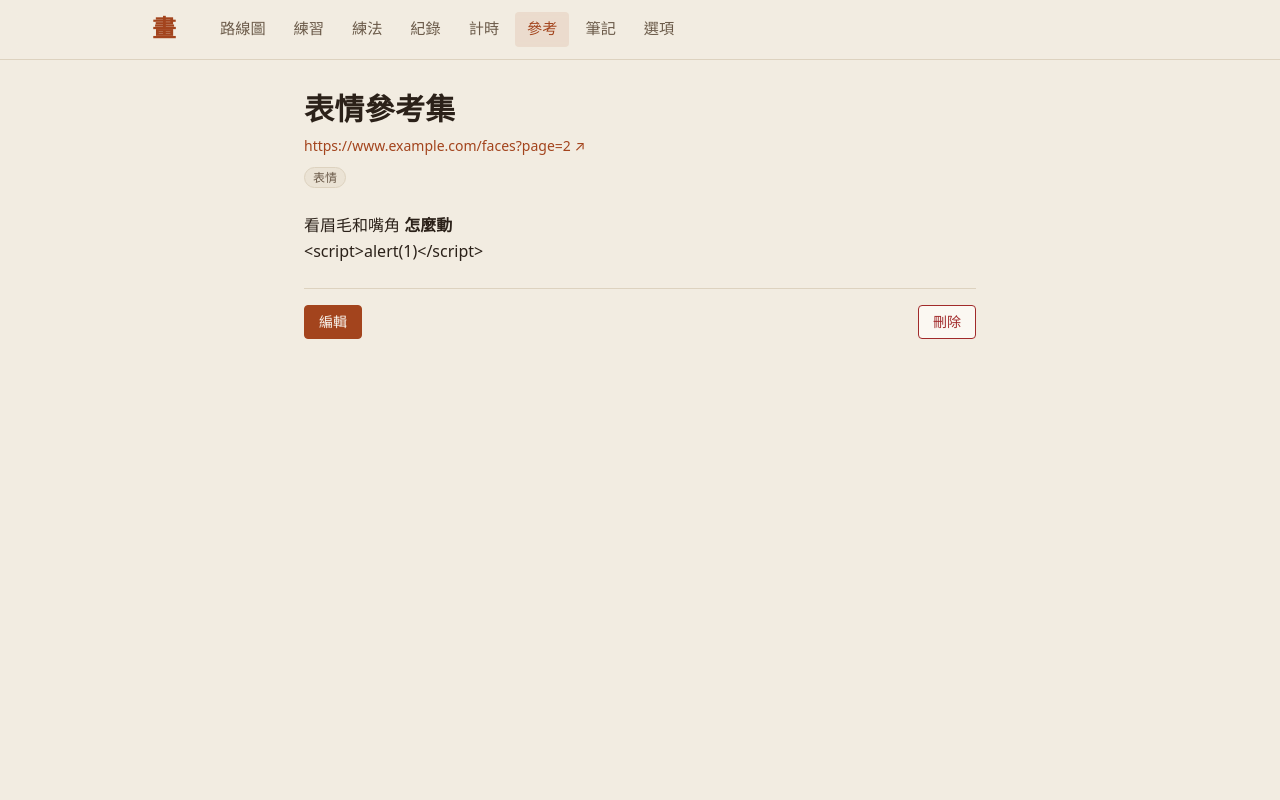
Test: a reference › deletes through the dialog and returns to the library
Step 1. Click the button "刪除" → click(947, 322), box [918, 305, 976, 339]
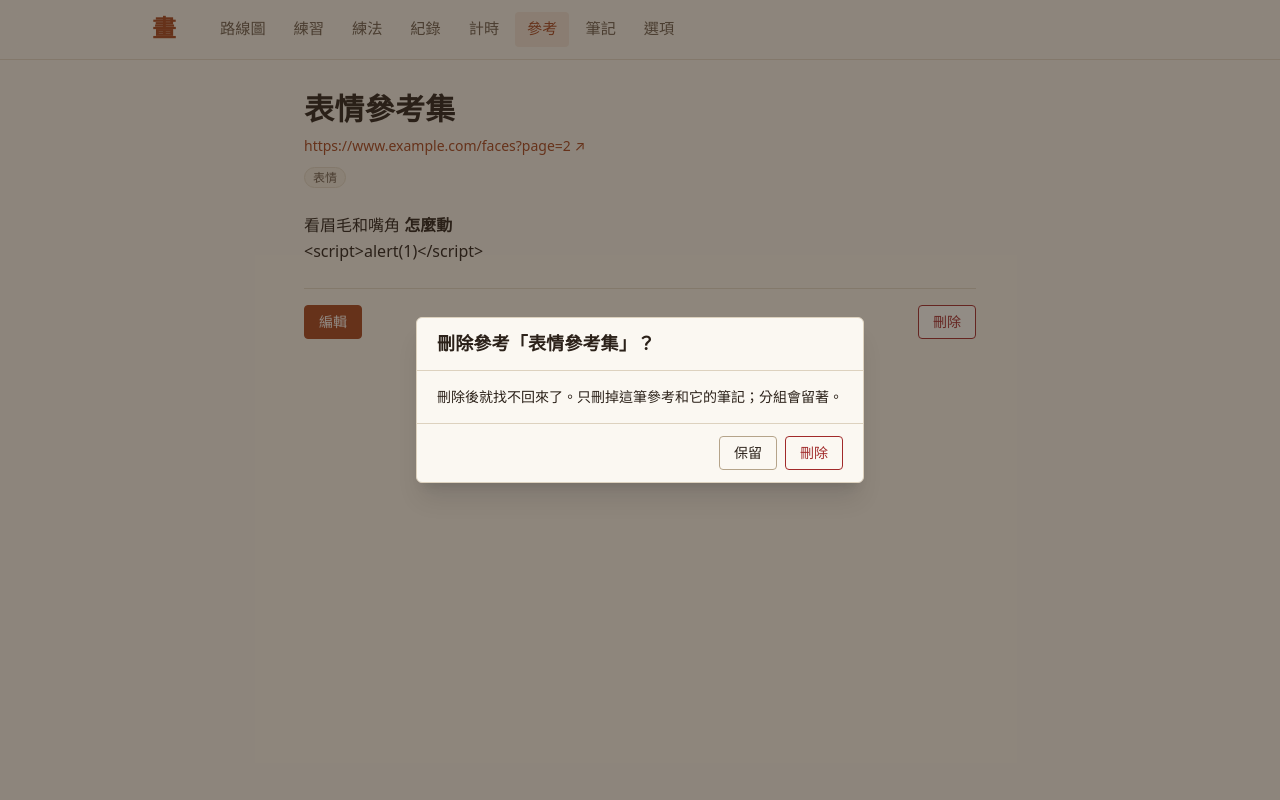
Step 2. Click the button "刪除" → click(814, 453), box [785, 436, 843, 470]
(page scrolled)
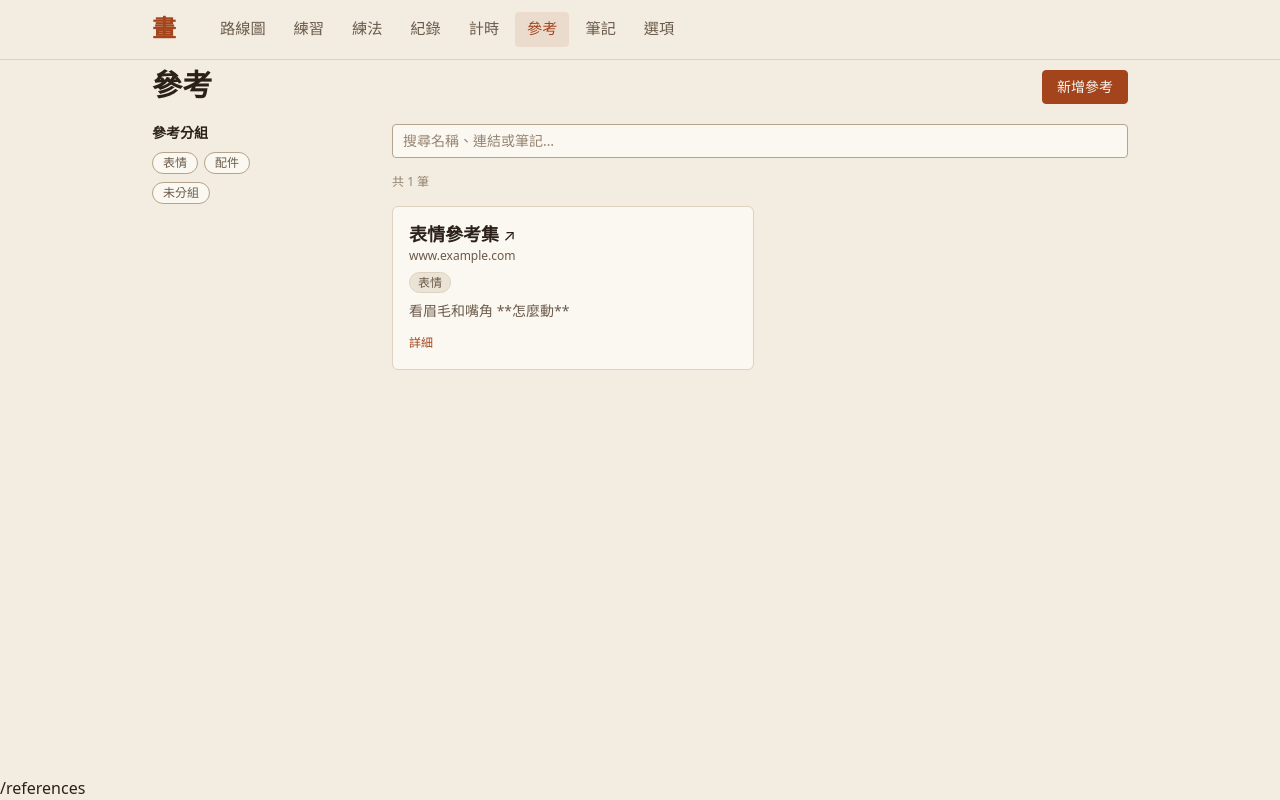
Expected: the text with test id "location" reads "/references", [0, 777, 85, 799]
